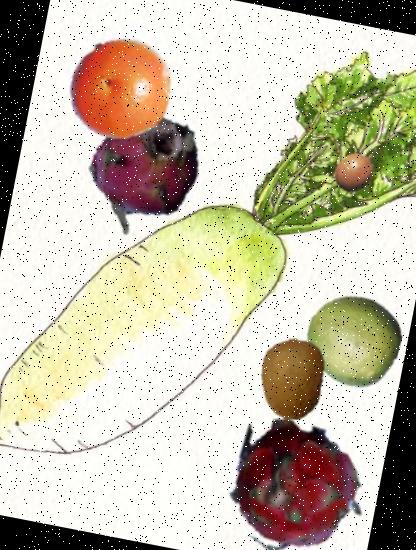Granadilla: (326, 138, 390, 201)
Kiwi: (244, 331, 340, 427)
Limes: (296, 284, 408, 397)
Pitahaya: (217, 409, 379, 550), (80, 96, 215, 232)
Tangelo: (59, 27, 182, 150)
